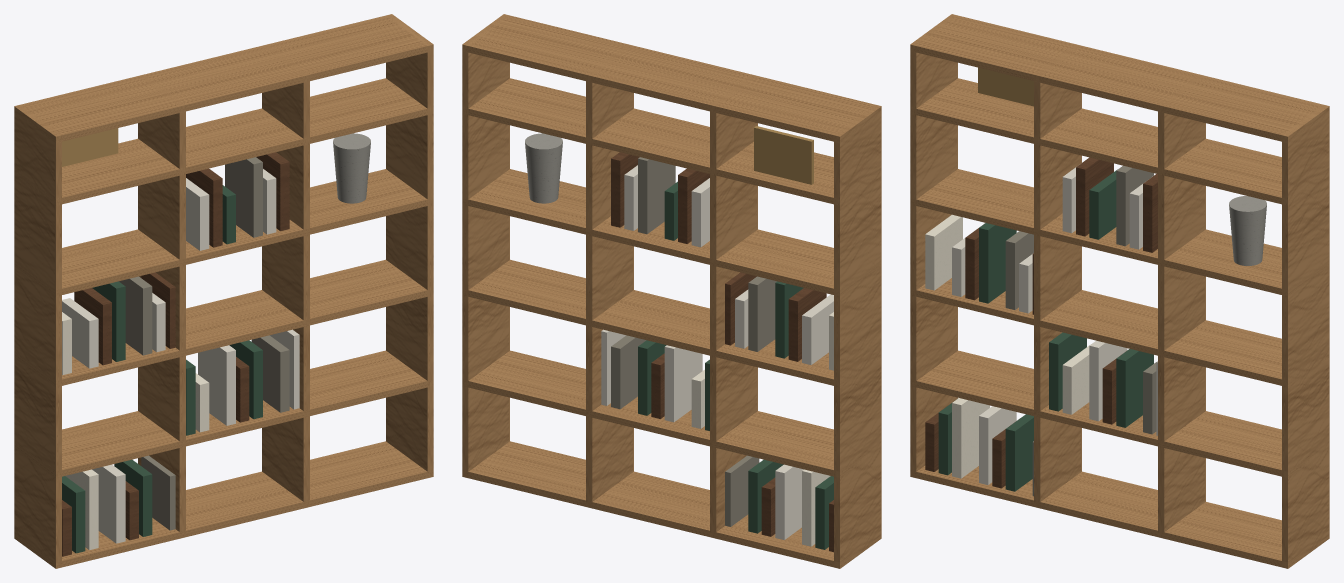
File: noi-that-ke-sach.glb
3 renders of one model, left to right at view 1: azimuth 30°, elevation 25°; view 2: azimuth 150°, elevation 25°; view 3: azimuth 330°, elevation 25°, orthographic.
Bounding box in the file's own units: 1.83 × 2 × 0.35.
8 materials, 4 textured.
